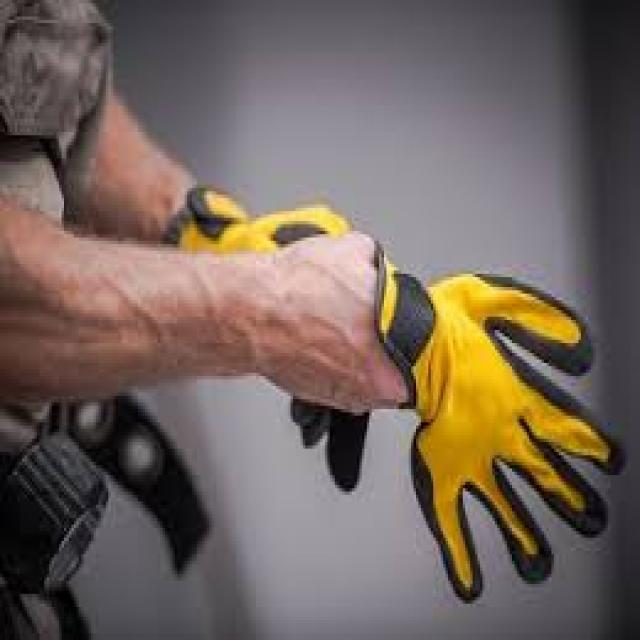gloved: (372, 238, 620, 598)
not-gloved: (247, 218, 373, 412)
